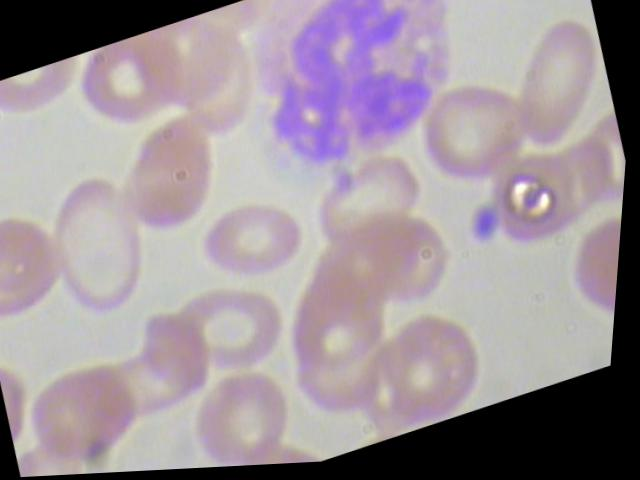Platelets: (461, 203, 515, 259)
Red Blood Cells: (36, 156, 174, 329), (489, 7, 627, 166), (356, 301, 505, 445), (114, 103, 246, 246), (16, 346, 160, 477), (407, 73, 543, 210), (165, 271, 305, 392), (63, 23, 204, 143), (307, 148, 437, 267), (0, 187, 88, 355), (189, 352, 313, 470), (191, 191, 323, 297)
White Blood Cells: (206, 0, 492, 209)
